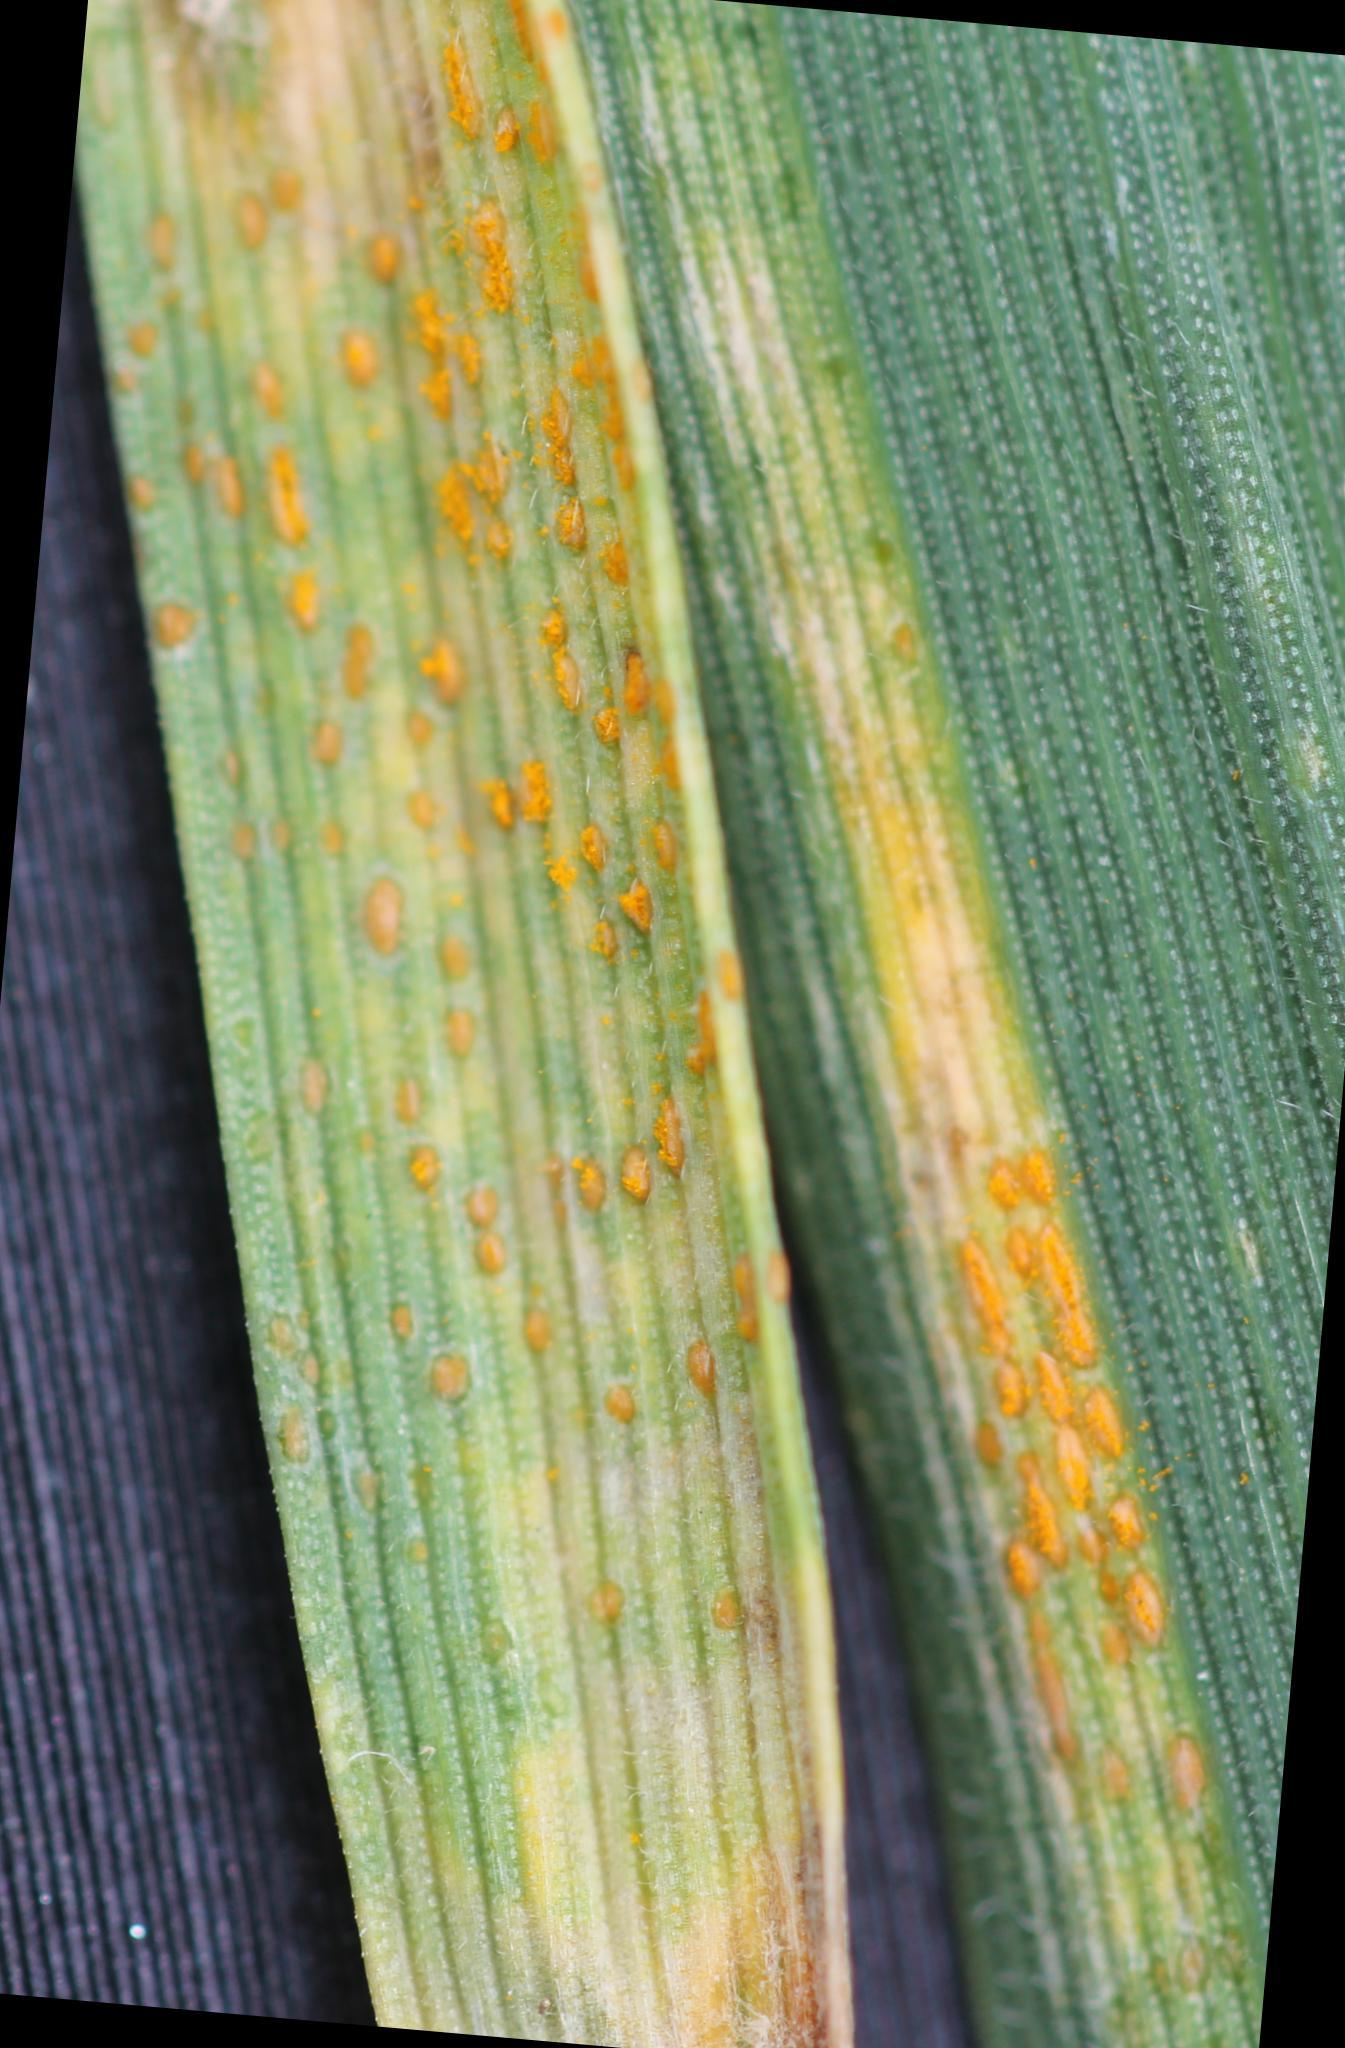Wheat: (381, 26, 721, 2028), (922, 1115, 1186, 1854), (137, 45, 366, 710)
